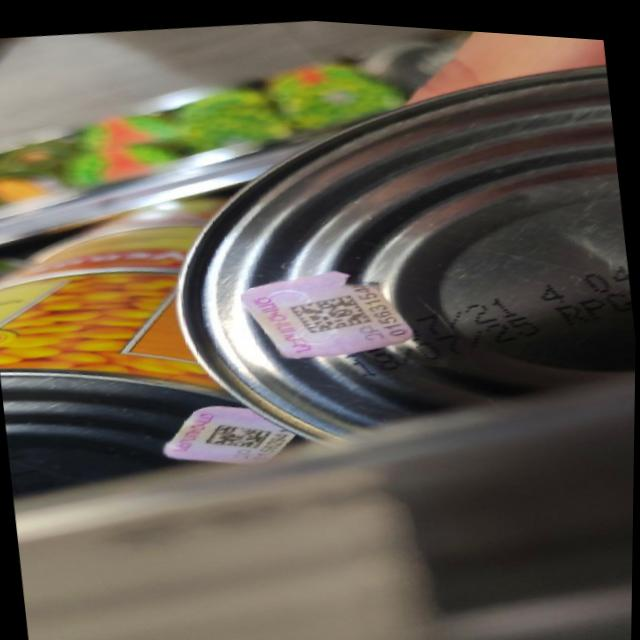datamatrix: (286, 284, 375, 337), (205, 414, 274, 452)
